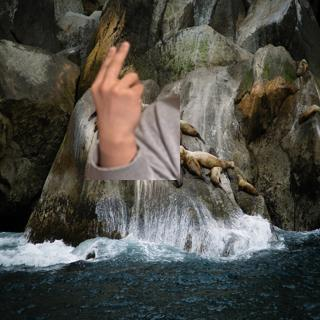DHAVE: (87, 35, 149, 143)
